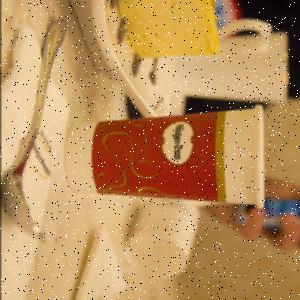Cup: (64, 106, 267, 210)
